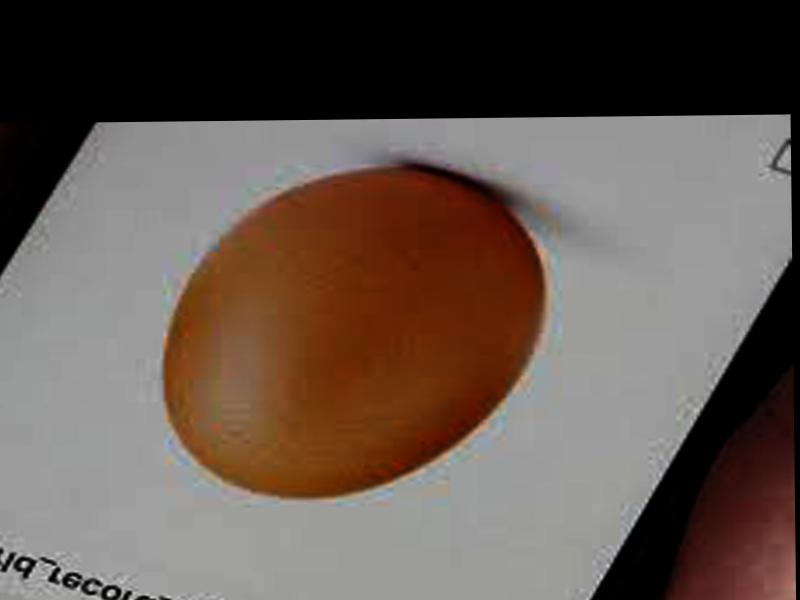Eggs: (162, 167, 546, 499)
